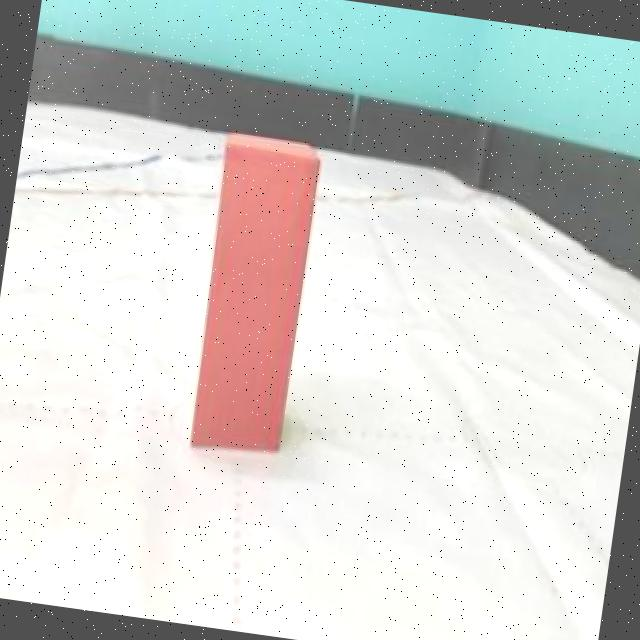redbox: (187, 136, 322, 460)
